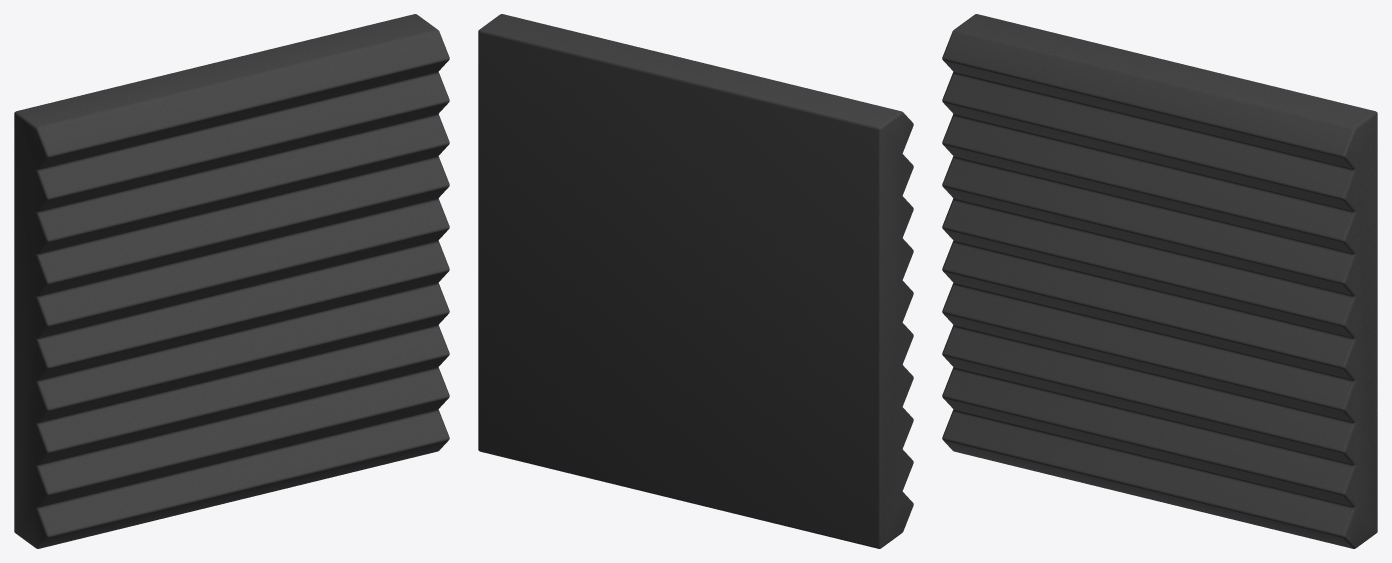
Rendered from acoustic_foam_panel.glb.
3 views of the same model, side by side, from view 1: azimuth 30°, elevation 25°; view 2: azimuth 150°, elevation 25°; view 3: azimuth 330°, elevation 25° (orthographic).
Parts seen in each view (by area): view 1: Acoustic Foam Panel; view 2: Acoustic Foam Panel; view 3: Acoustic Foam Panel.
Part boxes in pixels (x1,y1,x2,y2): Acoustic Foam Panel: (14, 14, 449, 548); Acoustic Foam Panel: (478, 14, 913, 548); Acoustic Foam Panel: (942, 14, 1377, 548).
Bounding box in the file's own units: 1 × 1 × 0.1475.
Materials: 1 (1 with a texture image).
